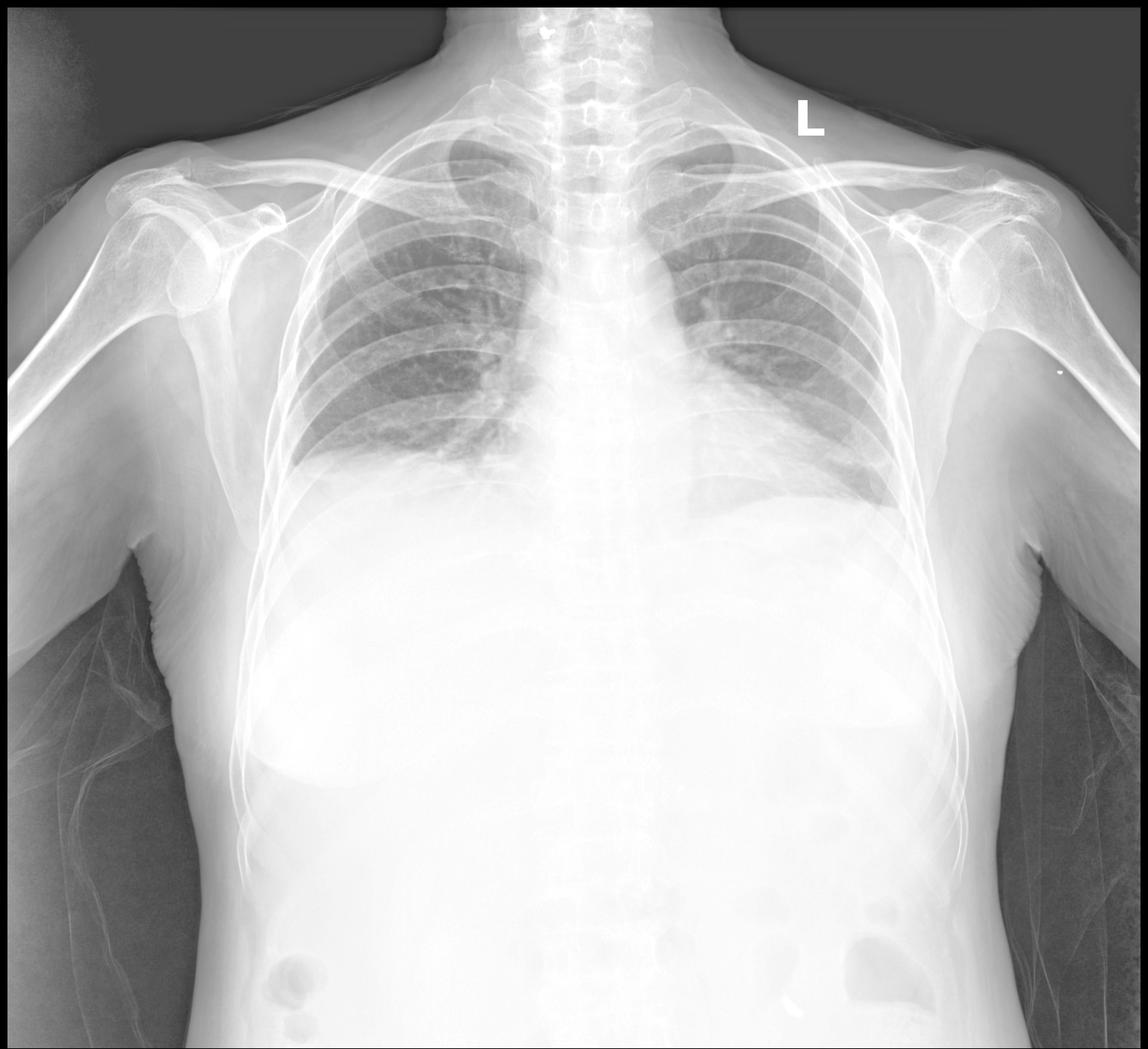Pleural thickening: (250, 423, 309, 520), (883, 492, 920, 537)
